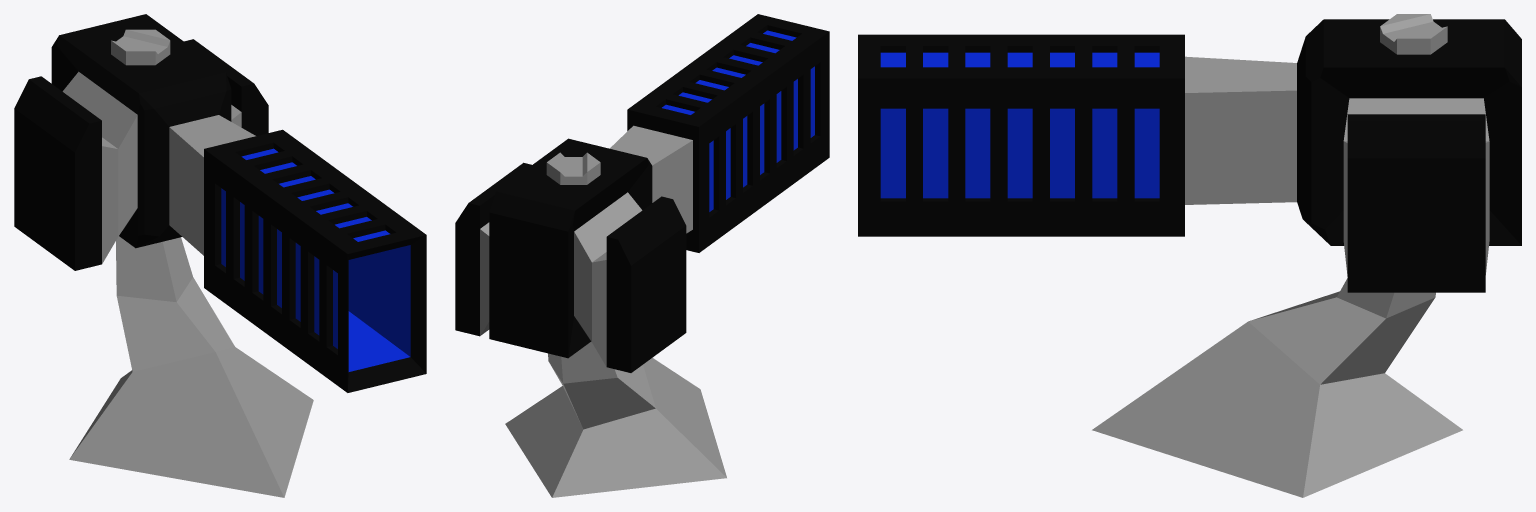
3 renders of one model, left to right at view 1: azimuth 30°, elevation 25°; view 2: azimuth 150°, elevation 25°; view 3: azimuth 270°, elevation 25°, orthographic. The views are drawn at different scales.
Visible parts, largest first — view 1: Cube.015; view 2: Cube.015; view 3: Cube.015.
Boxes of the visible parts, <box> form: Cube.015: <box>14,14,426,497</box>; Cube.015: <box>455,14,829,497</box>; Cube.015: <box>858,14,1521,497</box>.
Size of the model in its own units: 1270 by 1757 by 2625.
